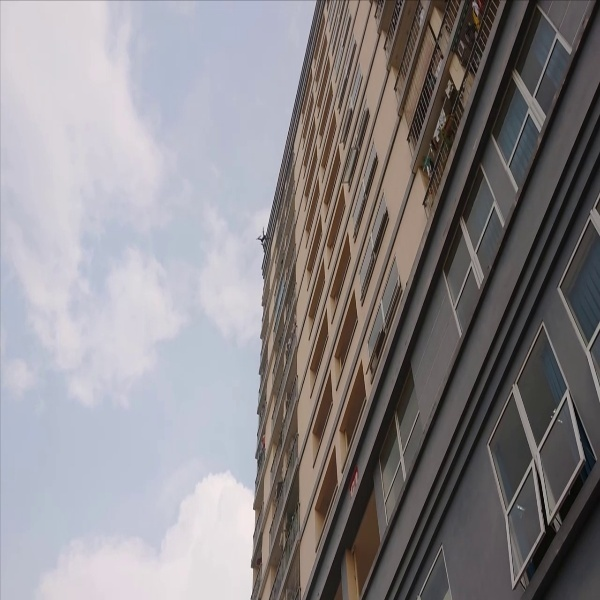drone: (252, 226, 268, 245)
